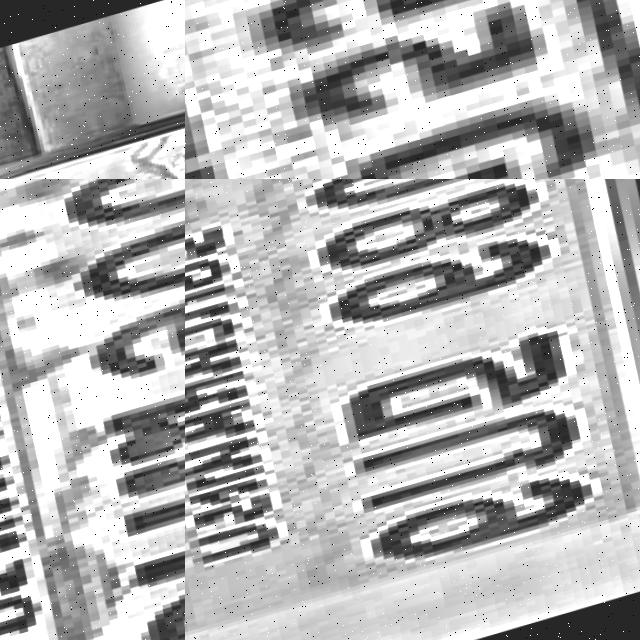license-plate: (185, 179, 640, 640), (0, 179, 185, 640), (185, 0, 640, 179), (0, 2, 185, 179)
